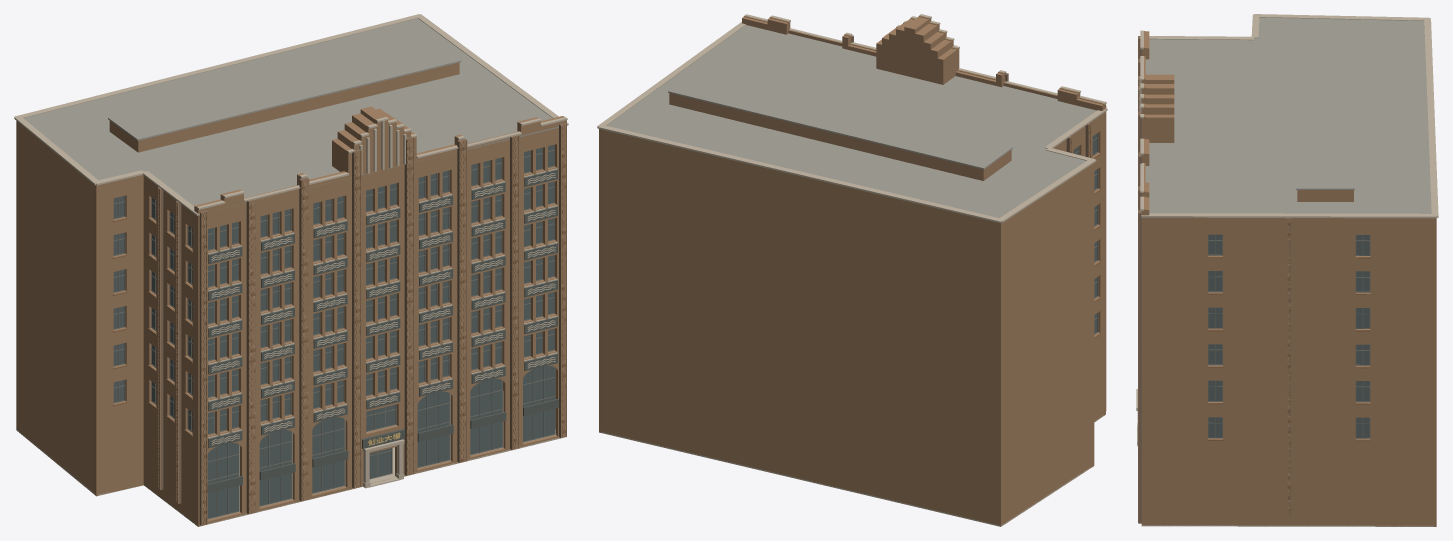
File: huangpu-enterprise-building-web.glb
3 renders of one model, left to right at view 1: azimuth 30°, elevation 25°; view 2: azimuth 150°, elevation 25°; view 3: azimuth 270°, elevation 25°, orthographic. The views are drawn at different scales.
Parts seen in each view (by area): view 1: 企业大楼（原中国企业银行大楼）; view 2: 企业大楼（原中国企业银行大楼）; view 3: 企业大楼（原中国企业银行大楼）.
Boxes of the visible parts, <box> form: 企业大楼（原中国企业银行大楼）: <box>14,14,568,526</box>; 企业大楼（原中国企业银行大楼）: <box>597,14,1107,526</box>; 企业大楼（原中国企业银行大楼）: <box>1136,14,1438,526</box>.
Bounding box in the file's own units: 42.68 × 35.3 × 26.82.
